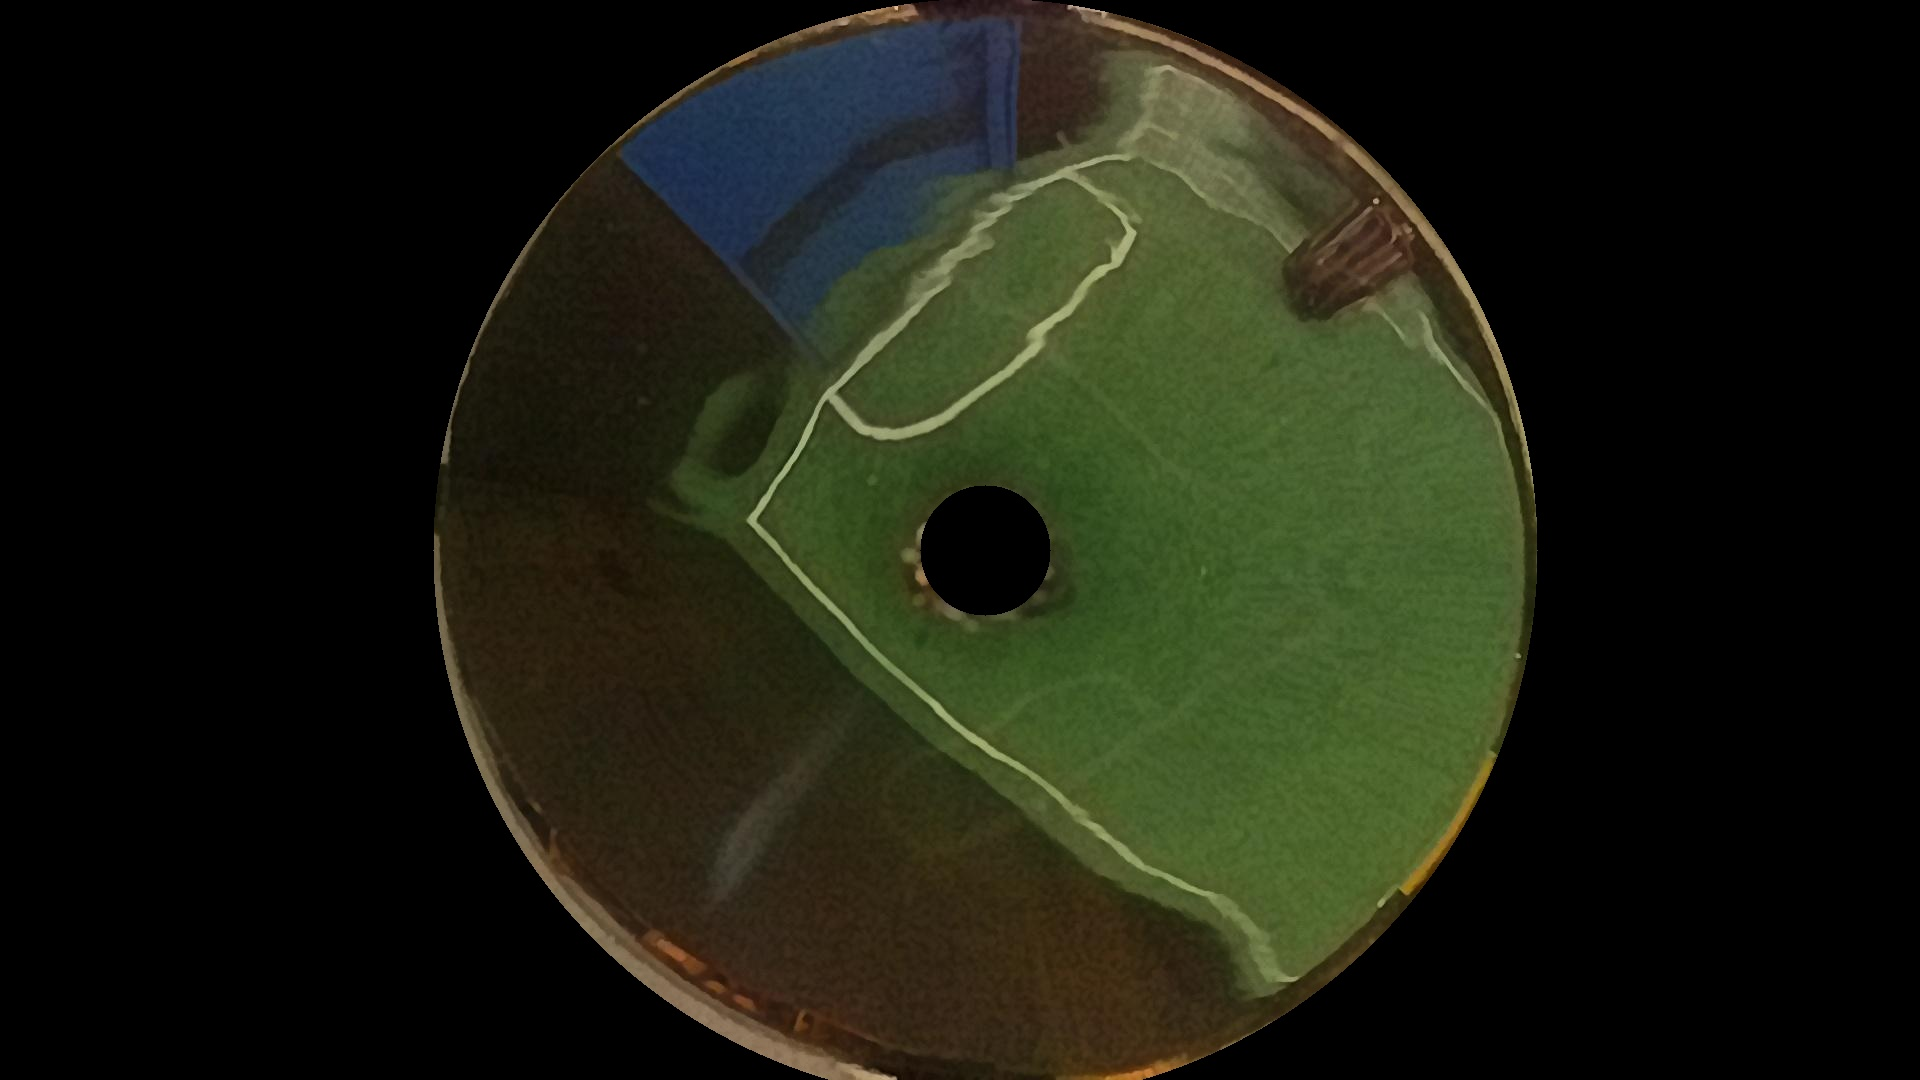robots: (1286, 186, 1414, 342)
yellow-goal: (1386, 752, 1513, 914)
